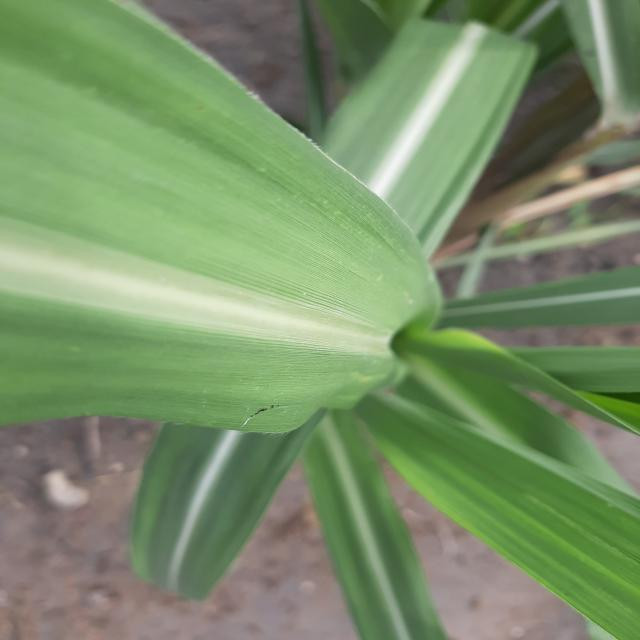Sugarcane: (1, 1, 638, 638)
